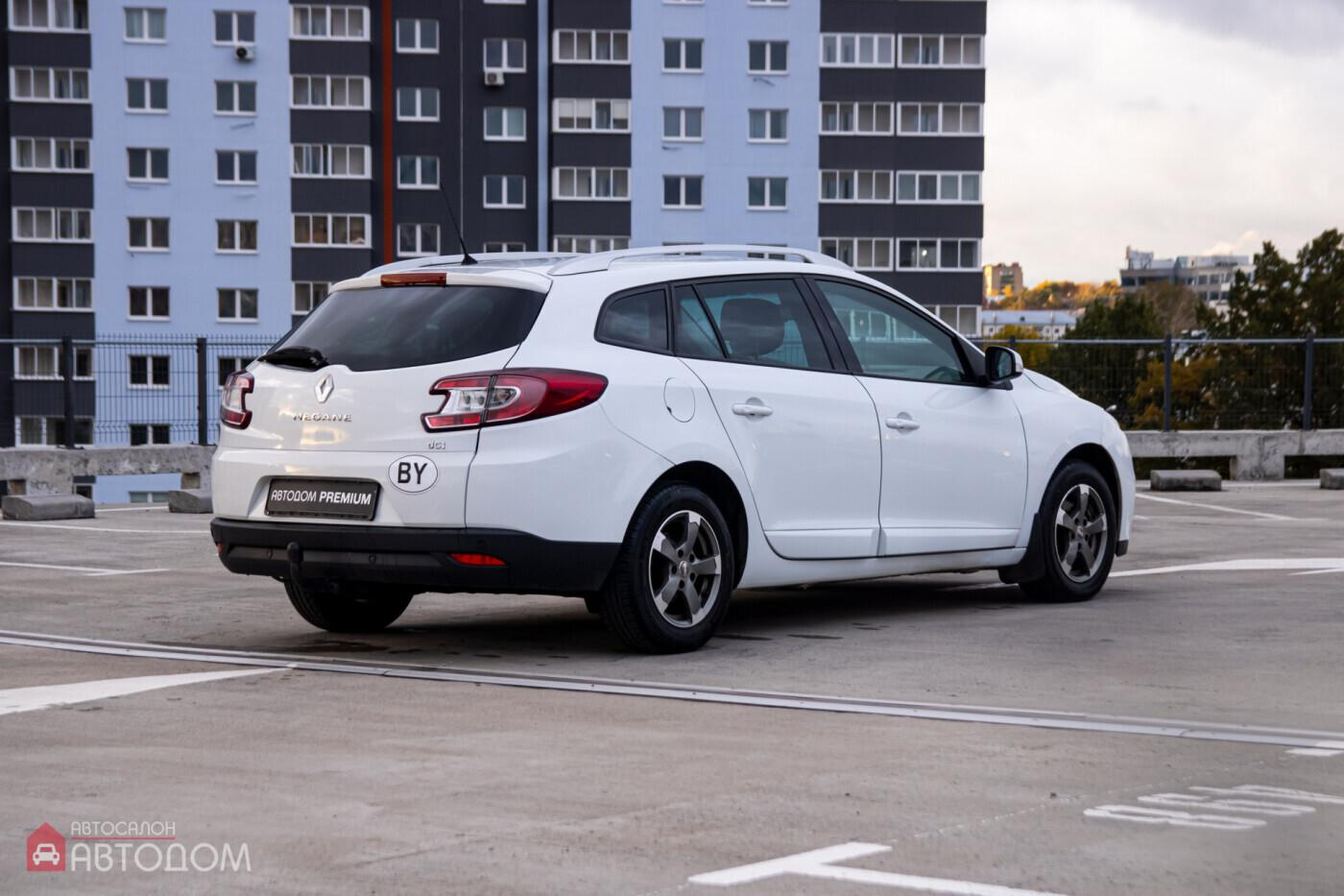Megane_2012-2014: (205, 246, 1134, 641)
